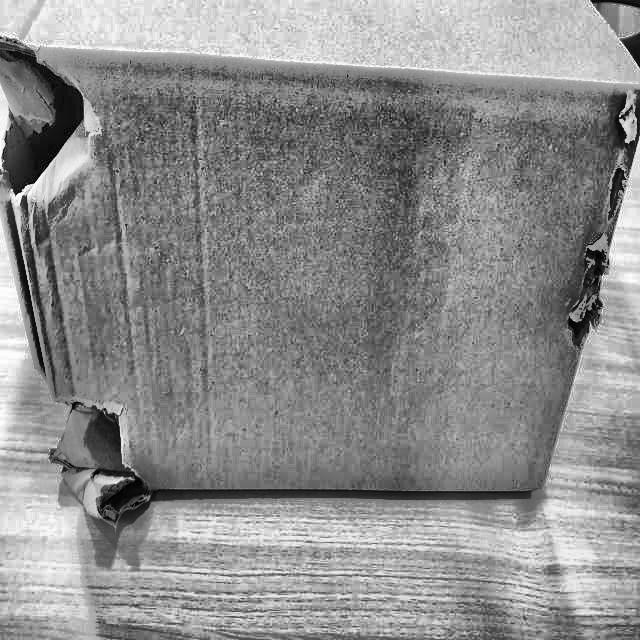box: (0, 0, 639, 505)
hole: (29, 370, 155, 528), (1, 29, 92, 201), (565, 229, 605, 364)
